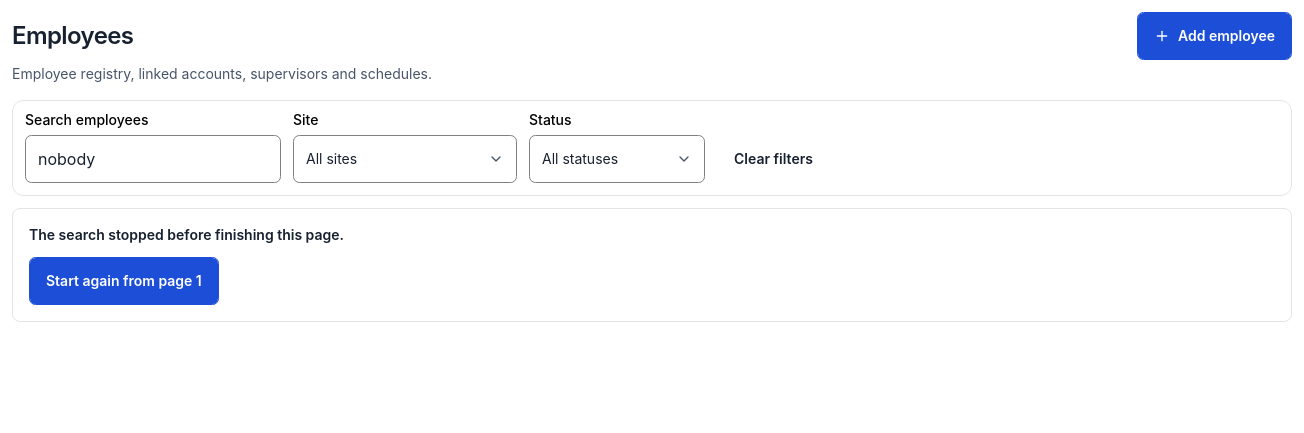
terminal reset and stalled scans › stops a scan that does not advance and lets the user restart it
Expected: the message with test id "hr-paged-interrupted" shows "The search stopped before finishing this page.", x1=29 y1=226 x2=344 y2=243
What coordinates should you click on to do the following:
click the button "Start again from page 1"
I would click on:
 (124, 281)
Its box is x1=29 y1=257 x2=219 y2=305.
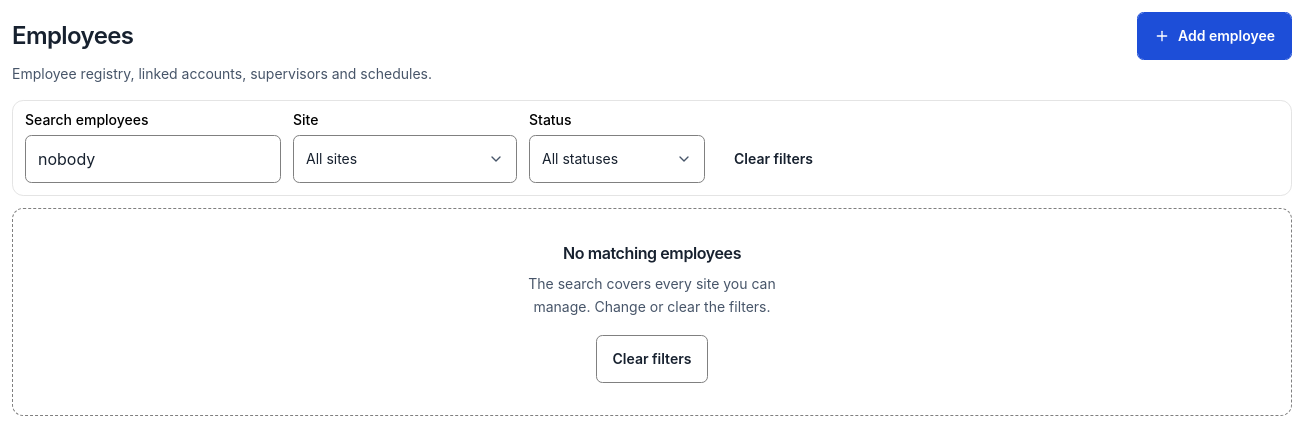
Now the text "No matching employees" is shown, box x1=563 y1=241 x2=741 y2=265
